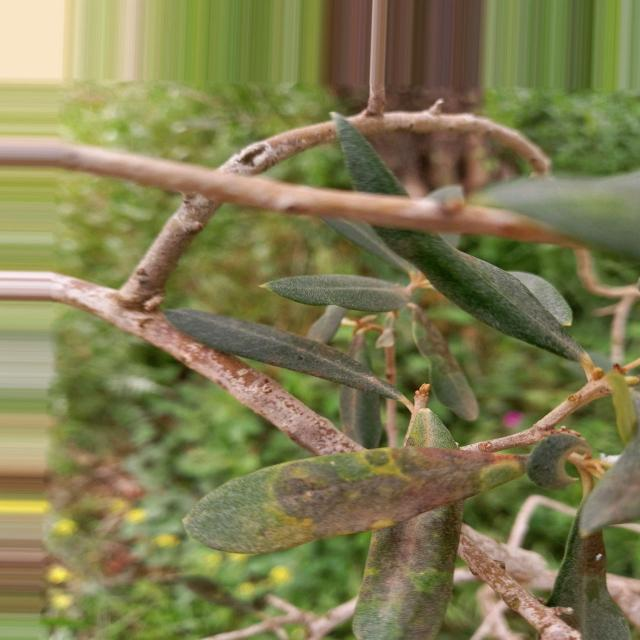OlivePeacockSpot: (183, 448, 524, 554), (352, 502, 463, 640), (411, 306, 479, 421)
